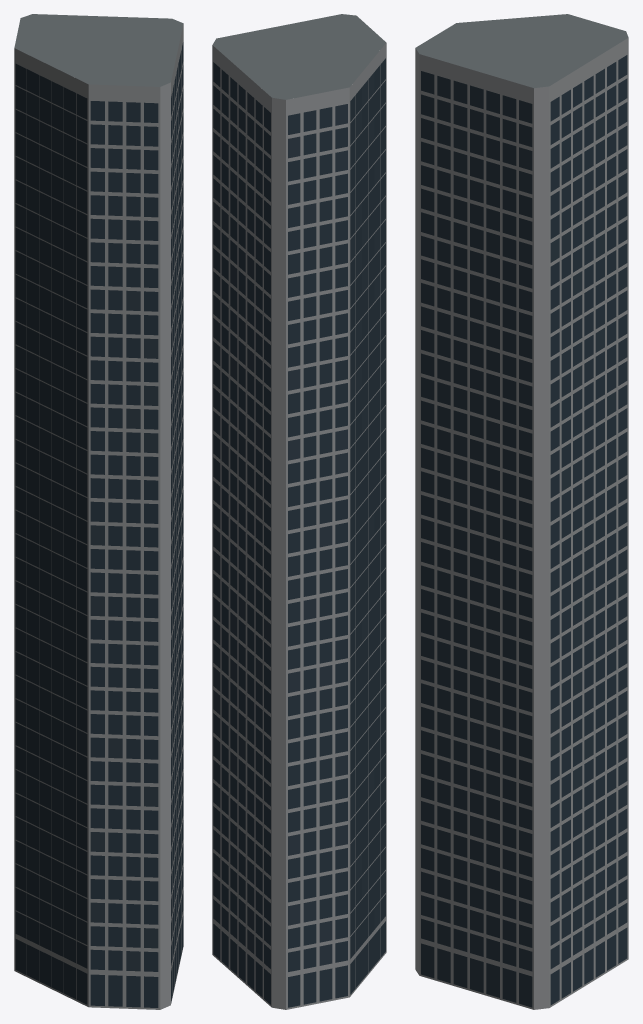
The model's file is jpmorgan-chase-tower-houston-far.glb.
3 renders of one model, left to right at view 1: azimuth 30°, elevation 25°; view 2: azimuth 150°, elevation 25°; view 3: azimuth 270°, elevation 25°, orthographic.
Visible parts, largest first — view 1: jpmorgan-chase-tower-houston-0-glass, jpmorgan-chase-tower-houston-0-granite, jpmorgan-chase-tower-houston-0-glow, jpmorgan-chase-tower-houston-0-roof; view 2: jpmorgan-chase-tower-houston-0-glass, jpmorgan-chase-tower-houston-0-granite, jpmorgan-chase-tower-houston-0-glow, jpmorgan-chase-tower-houston-0-roof; view 3: jpmorgan-chase-tower-houston-0-glass, jpmorgan-chase-tower-houston-0-granite, jpmorgan-chase-tower-houston-0-glow, jpmorgan-chase-tower-houston-0-roof.
Boxes of the visible parts, x1,y1,x2,y2 form: jpmorgan-chase-tower-houston-0-glass: (15, 42, 183, 1007); jpmorgan-chase-tower-houston-0-granite: (14, 24, 183, 1009); jpmorgan-chase-tower-houston-0-glow: (15, 75, 183, 971); jpmorgan-chase-tower-houston-0-roof: (14, 14, 183, 86); jpmorgan-chase-tower-houston-0-glass: (213, 58, 385, 1007); jpmorgan-chase-tower-houston-0-granite: (212, 43, 386, 1009); jpmorgan-chase-tower-houston-0-glow: (213, 72, 385, 965); jpmorgan-chase-tower-houston-0-roof: (212, 14, 386, 99); jpmorgan-chase-tower-houston-0-glass: (421, 55, 627, 1007); jpmorgan-chase-tower-houston-0-granite: (415, 38, 628, 1009); jpmorgan-chase-tower-houston-0-glow: (421, 68, 627, 971); jpmorgan-chase-tower-houston-0-roof: (415, 14, 628, 88).
Size of the model in its own units: 52.75 by 305 by 64.04.
